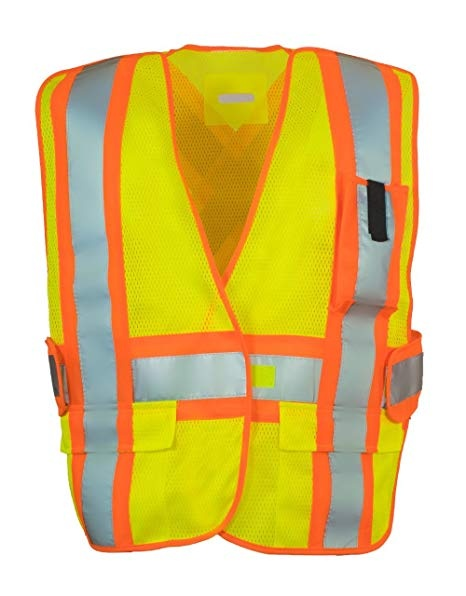safety vest: (38, 50, 419, 554)
